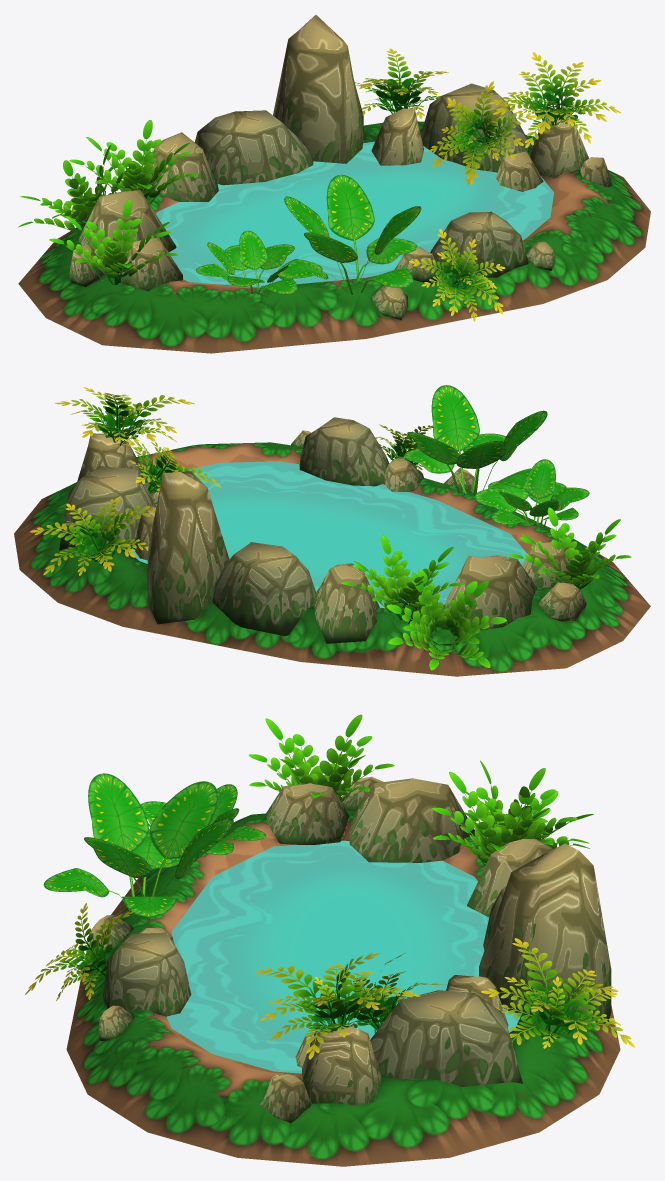
The model's file is Village_Pond.FBX.
3 views of the same model, one above another, from view 1: azimuth 30°, elevation 25°; view 2: azimuth 150°, elevation 25°; view 3: azimuth 270°, elevation 25° (orthographic). The views are drawn at different scales.
Visible parts, largest first — view 1: stone, Pond, bush2 (×2), water, Bush3; view 2: stone, Pond, water, bush2 (×2), Bush3; view 3: stone, Pond, water, bush2 (×2), Bush3.
Boxes of the visible parts, left/top/right/bottom form: stone: left=69, top=15, right=612, bottom=319; Pond: left=18, top=121, right=650, bottom=353; bush2 (×2): left=196, top=48, right=620, bottom=321; water: left=156, top=141, right=553, bottom=287; Bush3: left=18, top=120, right=198, bottom=284; stone: left=59, top=417, right=586, bottom=643; Pond: left=14, top=442, right=650, bottom=676; water: left=131, top=461, right=527, bottom=608; bush2 (×2): left=30, top=385, right=589, bottom=575; Bush3: left=341, top=507, right=631, bottom=670; stone: left=89, top=776, right=611, bottom=1123; Pond: left=66, top=810, right=620, bottom=1166; water: left=166, top=840, right=521, bottom=1073; bush2 (×2): left=25, top=773, right=634, bottom=1059; Bush3: left=248, top=714, right=593, bottom=865.
Size of the model in its own units: 3.87 by 0.9505 by 2.93.
